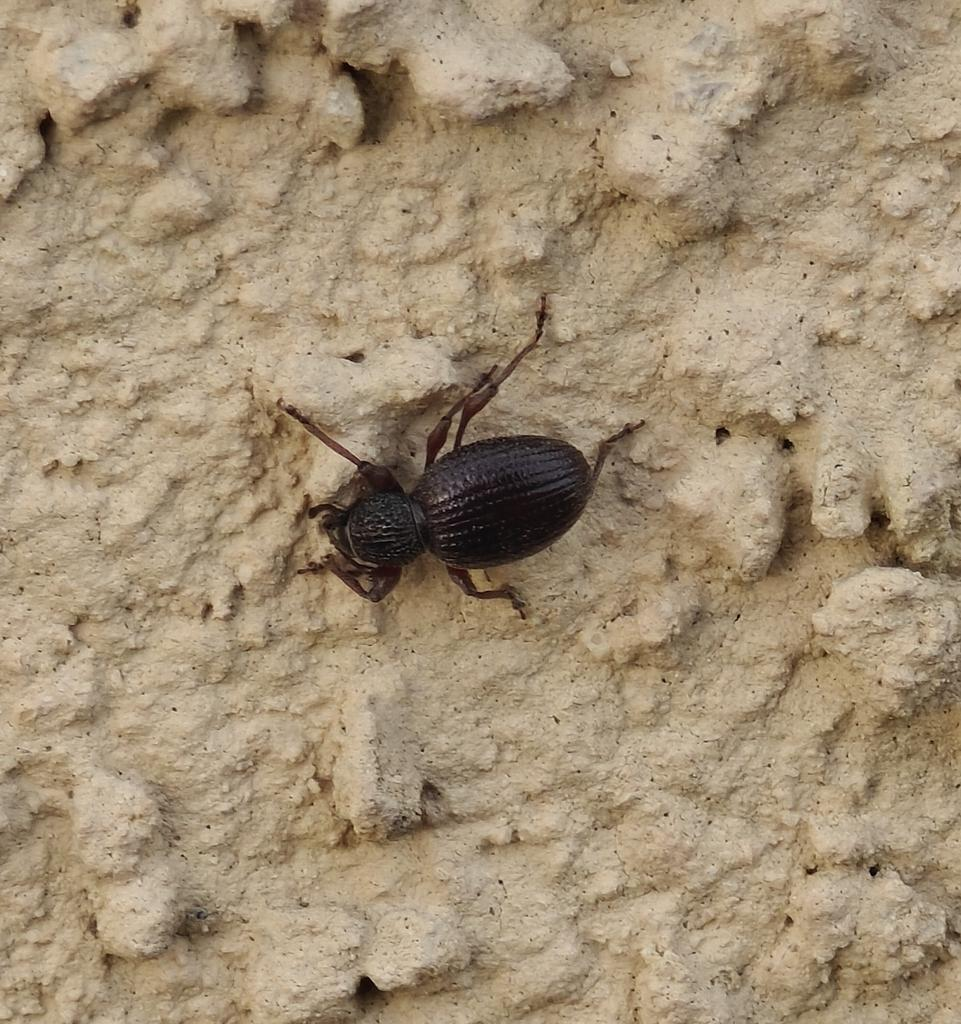weevils: (207, 274, 709, 679)
